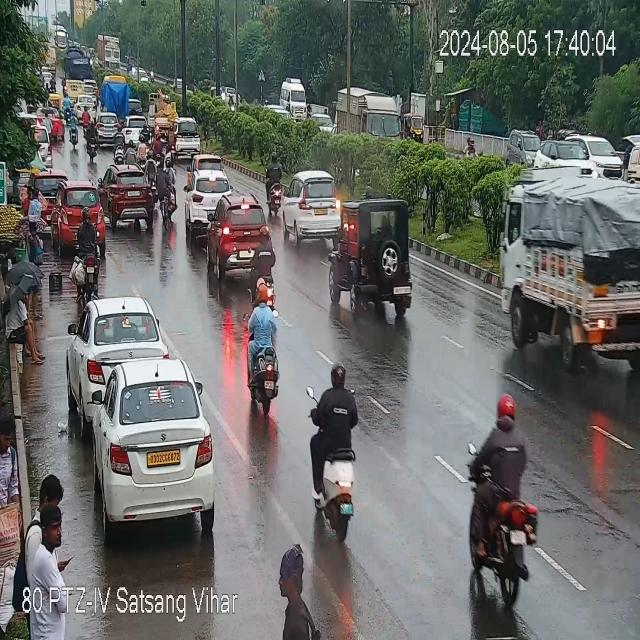2-wheelers: (464, 392, 530, 580), (304, 364, 364, 544), (239, 282, 290, 416), (72, 210, 100, 294), (104, 70, 136, 117), (156, 166, 176, 232), (266, 160, 286, 218), (46, 104, 67, 146), (67, 97, 83, 149), (135, 134, 152, 163), (128, 134, 144, 164), (112, 131, 126, 162), (88, 119, 96, 160), (167, 122, 176, 158), (155, 129, 164, 163), (464, 134, 476, 157), (50, 76, 67, 92), (83, 104, 88, 138)
auto: (402, 110, 423, 143)
bus: (52, 31, 66, 49)
car: (92, 356, 216, 524), (326, 197, 416, 321), (71, 294, 165, 400), (202, 193, 273, 280), (512, 129, 626, 177), (288, 173, 344, 245), (182, 157, 229, 238), (103, 166, 159, 228), (175, 116, 201, 155), (281, 78, 306, 118), (96, 111, 124, 141), (74, 95, 96, 122)
pedestrian: (25, 470, 64, 588), (270, 548, 319, 631), (8, 293, 39, 365), (28, 222, 43, 317), (22, 185, 40, 212)
truck: (503, 168, 639, 358), (329, 89, 401, 148), (67, 49, 99, 105), (101, 76, 128, 108), (96, 35, 121, 69), (151, 98, 168, 125)
